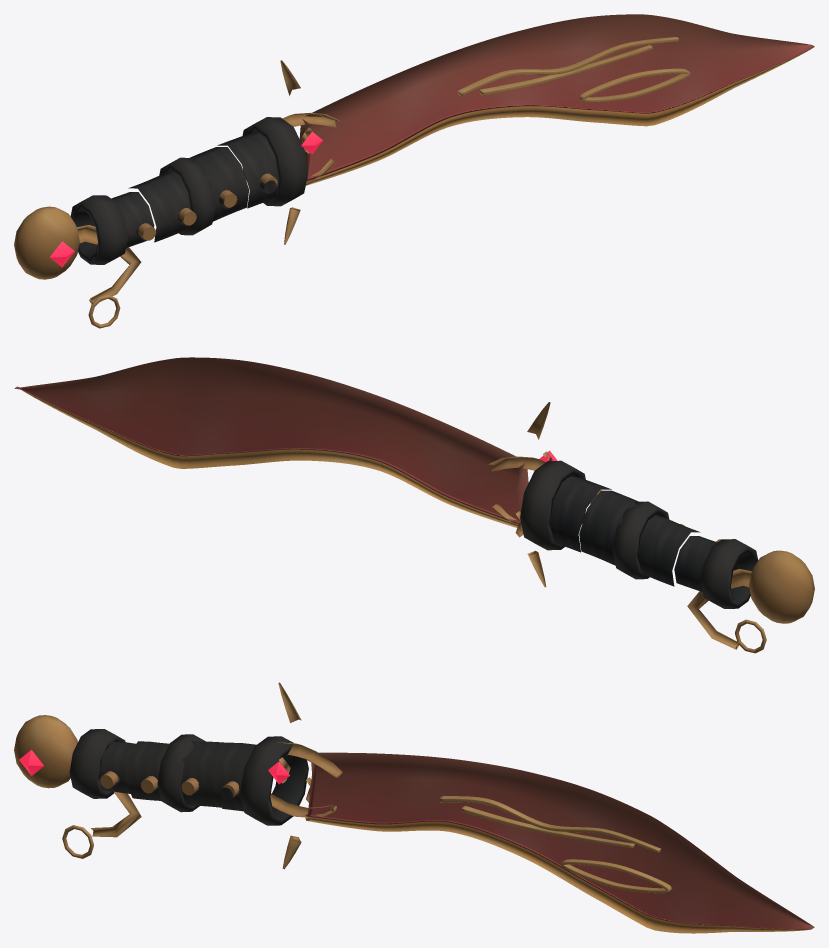
File: dragonfang-kukri-r8-action-ready.glb
3 views of the same model, one above another, from view 1: azimuth 30°, elevation 25°; view 2: azimuth 150°, elevation 25°; view 3: azimuth 330°, elevation 25° (orthographic).
Parts seen in each view (by area): view 1: knife-part:blade-body, knife-part:grip, knife-part:pommel, knife-part:cutting-edge, knife-part:relief-dragon-spine, knife-part:guard, knife-part:relief-dragon-belly; view 2: knife-part:blade-body, knife-part:grip, knife-part:pommel, knife-part:cutting-edge, knife-part:guard; view 3: knife-part:blade-body, knife-part:grip, knife-part:cutting-edge, knife-part:pommel, knife-part:relief-dragon-spine, knife-part:guard, knife-part:relief-dragon-belly.
Part boxes in pixels (x1,y1,x2,y2): knife-part:blade-body: [299, 14, 814, 181]; knife-part:grip: [70, 117, 307, 264]; knife-part:pommel: [14, 206, 141, 328]; knife-part:cutting-edge: [306, 47, 813, 185]; knife-part:relief-dragon-spine: [457, 37, 678, 96]; knife-part:guard: [280, 60, 339, 244]; knife-part:relief-dragon-belly: [579, 68, 690, 102]; knife-part:blade-body: [14, 357, 528, 524]; knife-part:grip: [520, 460, 758, 608]; knife-part:pommel: [687, 550, 814, 653]; knife-part:cutting-edge: [22, 390, 518, 527]; knife-part:guard: [488, 402, 552, 587]; knife-part:blade-body: [305, 752, 814, 929]; knife-part:grip: [69, 729, 308, 825]; knife-part:cutting-edge: [304, 816, 811, 933]; knife-part:pommel: [14, 715, 141, 858]; knife-part:relief-dragon-spine: [439, 796, 661, 852]; knife-part:guard: [270, 682, 342, 869]; knife-part:relief-dragon-belly: [560, 859, 672, 893].
Bounding box in the file's own units: 3.14 × 0.8002 × 0.3128.
